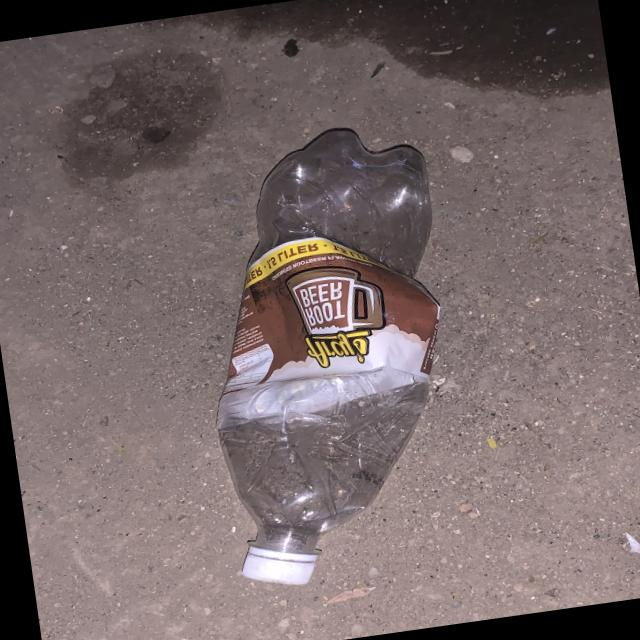Bottle: (217, 128, 441, 585)
